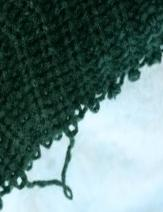snag: (20, 127, 78, 201)
